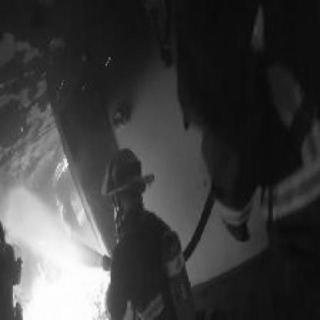Smoke: (10, 208, 76, 268)
